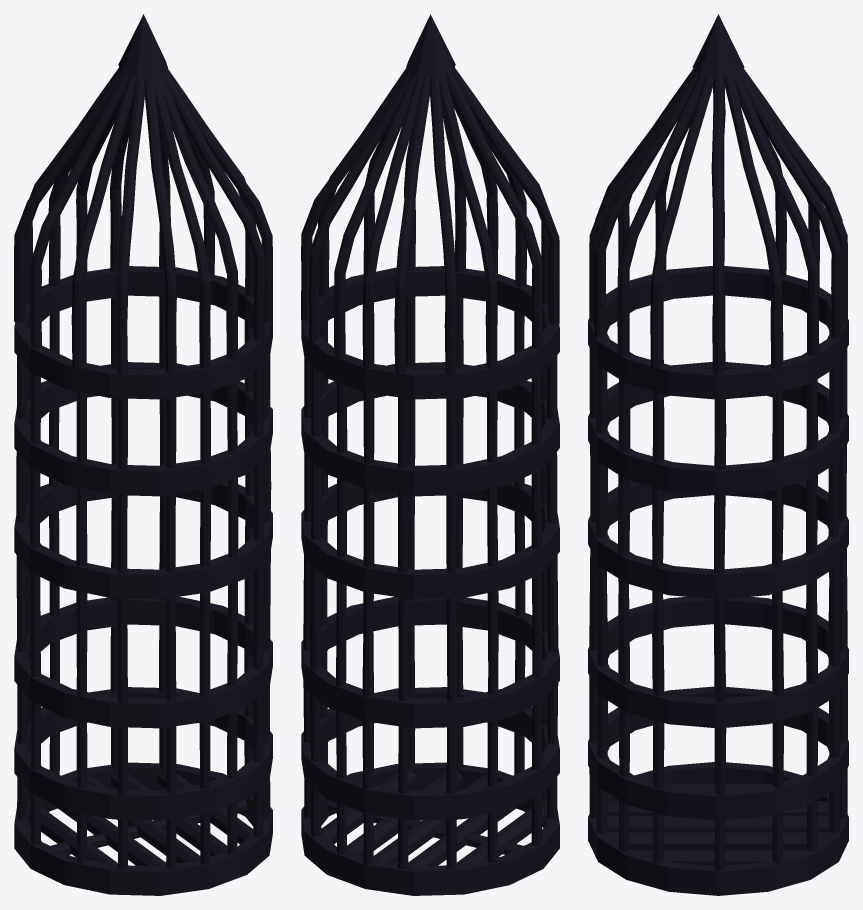
File: cage.glb
3 views of the same model, side by side, from view 1: azimuth 30°, elevation 25°; view 2: azimuth 150°, elevation 25°; view 3: azimuth 270°, elevation 25° (orthographic).
Parts seen in each view (by area): view 1: cage; view 2: cage; view 3: cage.
Part boxes in pixels (x1,y1,x2,y2): cage: (14,14,272,895); cage: (301,14,559,895); cage: (588,14,848,895).
Size of the model in its own units: 0.6 by 2.1 by 0.6.
1 material, 1 textured.
